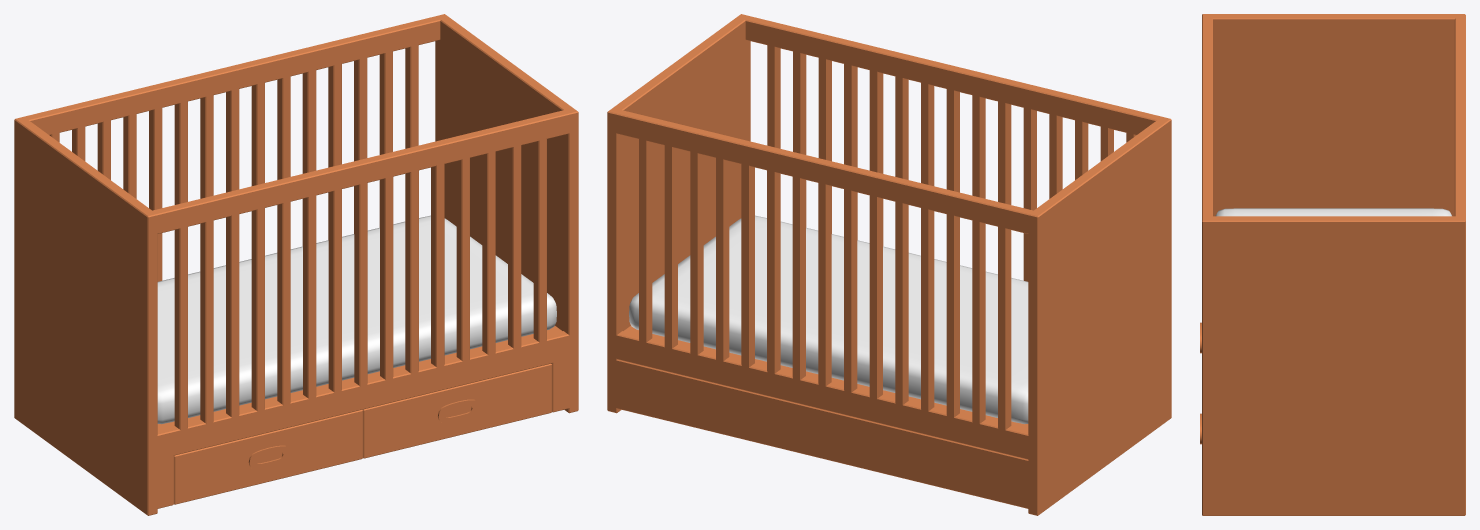
The model's file is Crib_V9.fbx.
3 views of the same model, side by side, from view 1: azimuth 30°, elevation 25°; view 2: azimuth 150°, elevation 25°; view 3: azimuth 270°, elevation 25° (orthographic).
Visible parts, largest first — view 1: Crib_V9, Crib_V9_D2, Crib_V9_D1; view 2: Crib_V9; view 3: Crib_V9.
Boxes of the visible parts, box(x1,y1,x2,y2) form: Crib_V9: box(14, 14, 578, 515); Crib_V9_D2: box(362, 363, 551, 458); Crib_V9_D1: box(174, 410, 362, 504); Crib_V9: box(607, 14, 1171, 515); Crib_V9: box(1202, 14, 1465, 515).
Size of the model in its own units: 138 by 92 by 75.
